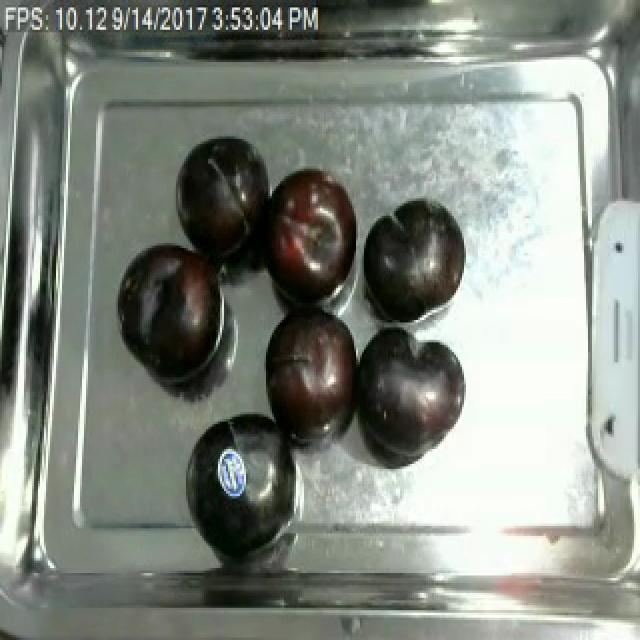Fruit: (178, 399, 302, 558), (348, 322, 472, 474), (250, 158, 362, 312), (256, 300, 364, 452), (118, 236, 228, 384), (358, 194, 472, 328), (172, 129, 274, 265)
